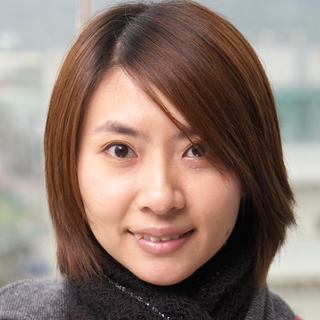eye: (95, 138, 143, 165), (178, 138, 217, 163)
